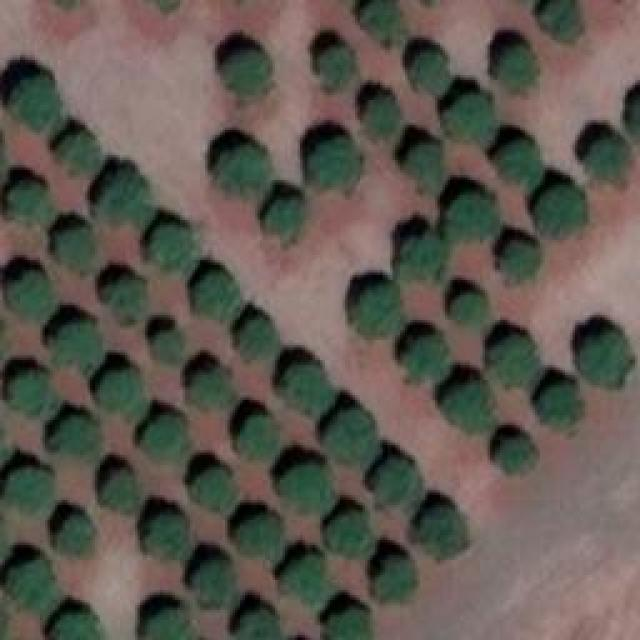Tree: (100, 173, 155, 226), (580, 330, 630, 388), (440, 95, 495, 145), (193, 273, 248, 323), (488, 338, 541, 388), (215, 145, 270, 193), (448, 192, 501, 240), (327, 408, 375, 461), (52, 323, 100, 376), (12, 78, 60, 131), (445, 383, 495, 433), (418, 510, 468, 560), (535, 188, 590, 233), (97, 370, 145, 420), (280, 465, 333, 510), (285, 365, 330, 418), (492, 142, 540, 190), (310, 140, 358, 188), (355, 287, 403, 335), (5, 468, 55, 513), (280, 553, 325, 603), (225, 50, 270, 98), (585, 137, 630, 185), (378, 460, 423, 508), (8, 272, 53, 320), (7, 373, 55, 418), (153, 225, 198, 273), (145, 515, 195, 558), (10, 560, 50, 613), (137, 418, 185, 461), (400, 235, 445, 280), (498, 45, 541, 90), (330, 513, 375, 556), (190, 470, 235, 513), (187, 370, 235, 410), (55, 418, 103, 458), (405, 143, 443, 193), (538, 385, 581, 428), (193, 563, 236, 606), (263, 200, 303, 245), (405, 335, 445, 380), (238, 518, 283, 558), (410, 50, 450, 93), (100, 473, 143, 513), (58, 135, 101, 175), (540, 0, 580, 42), (240, 415, 278, 458), (240, 318, 278, 361), (375, 560, 418, 598), (365, 0, 402, 42), (325, 607, 372, 640), (108, 278, 143, 321), (10, 185, 53, 220), (502, 245, 540, 283), (320, 48, 353, 91), (365, 95, 398, 138), (60, 228, 93, 271), (58, 518, 93, 558), (498, 435, 533, 473), (55, 612, 100, 640), (150, 330, 185, 365), (148, 610, 188, 640), (450, 293, 485, 326), (237, 612, 275, 640)
